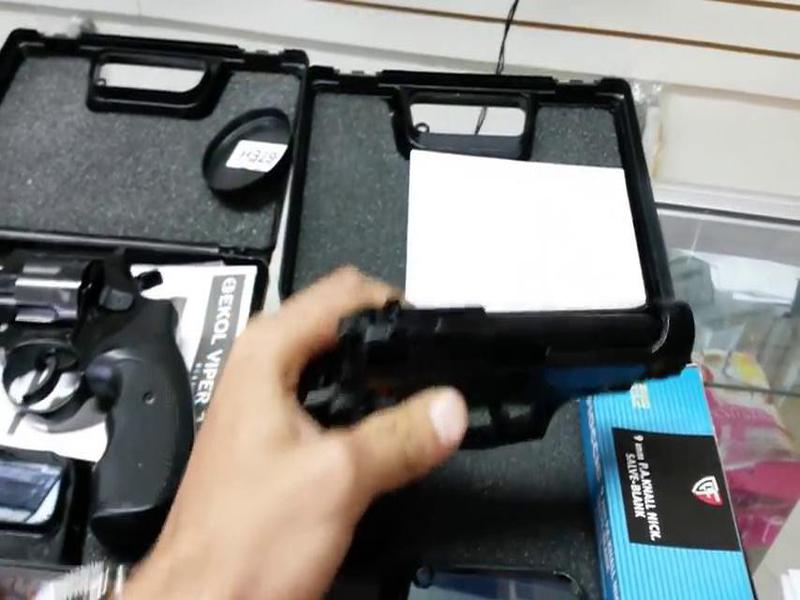Pistola: (285, 282, 711, 479)
